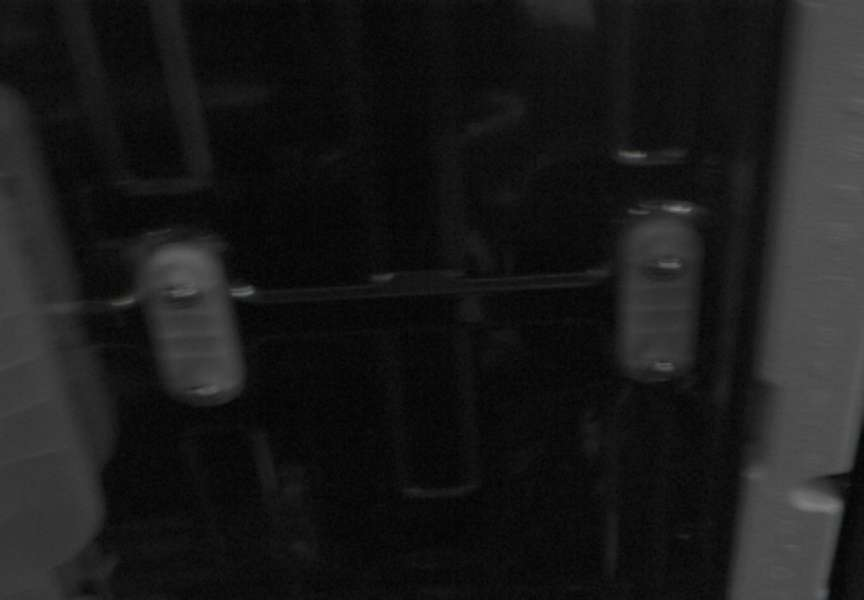screw: (643, 256, 685, 280), (160, 282, 202, 306), (184, 384, 222, 399), (650, 360, 677, 376)
